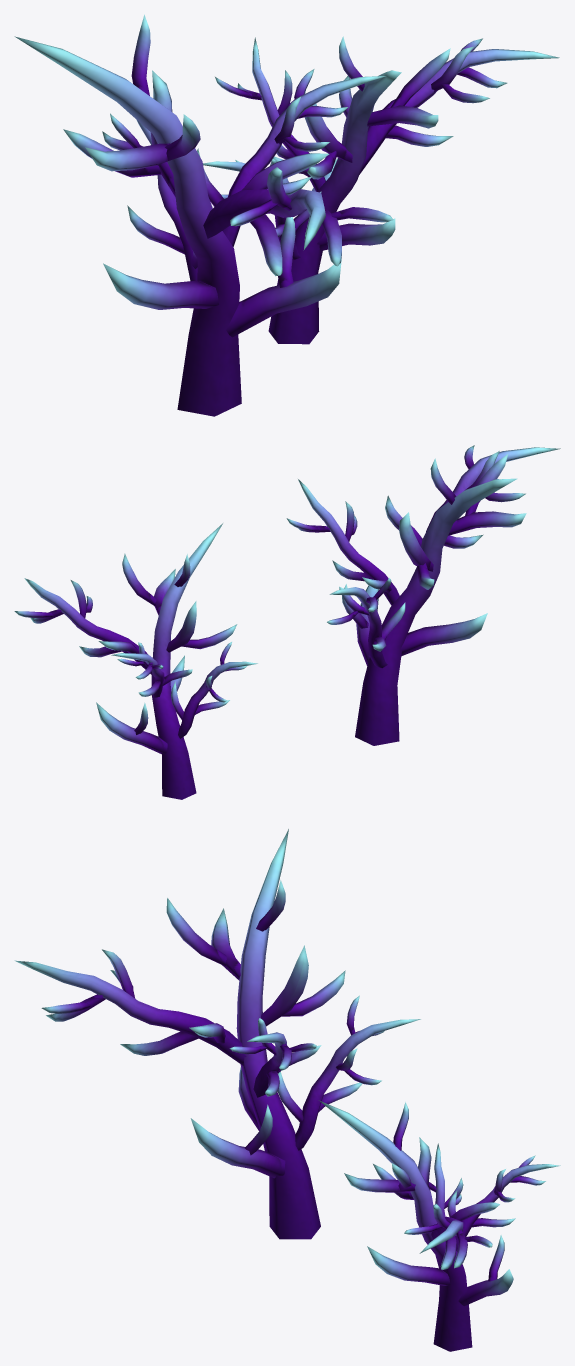
File: Cartoon Seaweed_13-2-34.fbx
The picture shows the model from 3 angles, top to bottom: view 1: azimuth 30°, elevation 25°; view 2: azimuth 150°, elevation 25°; view 3: azimuth 270°, elevation 25°; orthographic projection. The views are drawn at different scales.
Parts seen in each view (by area): view 1: Cartoon Seaweed_13.2.34; view 2: Cartoon Seaweed_13.2.34; view 3: Cartoon Seaweed_13.2.34.
Boxes of the visible parts, left/top/right/bottom form: Cartoon Seaweed_13.2.34: left=14, top=14, right=559, bottom=416; Cartoon Seaweed_13.2.34: left=14, top=445, right=560, bottom=799; Cartoon Seaweed_13.2.34: left=14, top=829, right=560, bottom=1351.
Size of the model in its own units: 22.8 by 16.25 by 21.89.
Materials: 1 (1 with a texture image).
